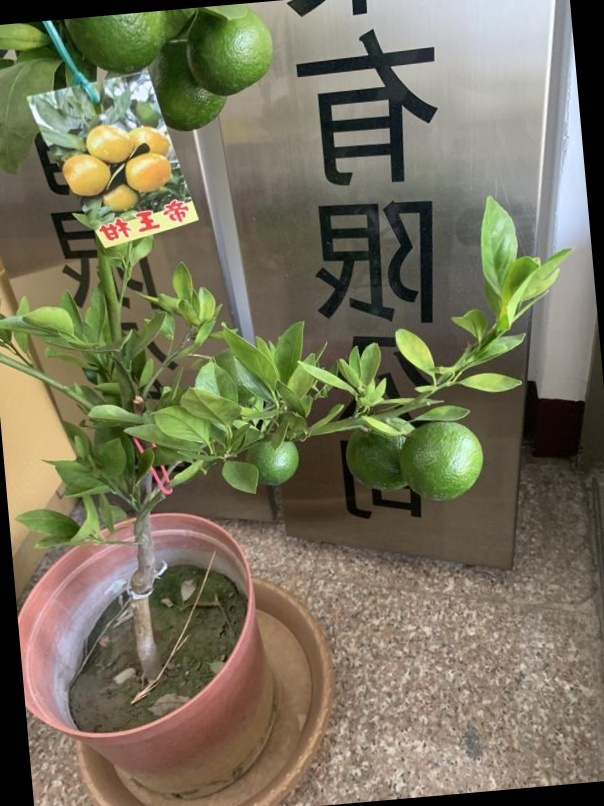Tangerine: (186, 9, 278, 99), (399, 419, 486, 502), (150, 41, 221, 130), (342, 421, 419, 494), (245, 440, 300, 484)
